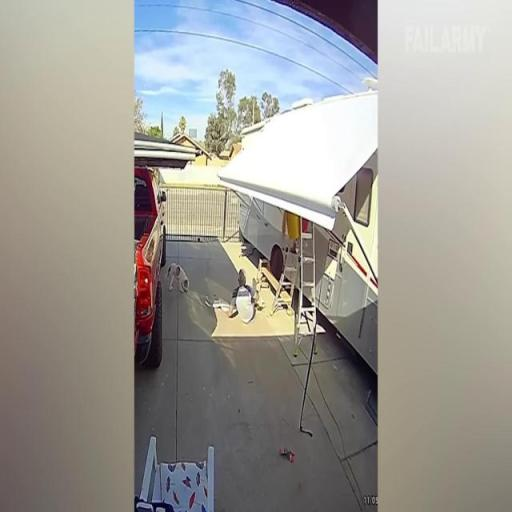Fall: (229, 267, 260, 325)
